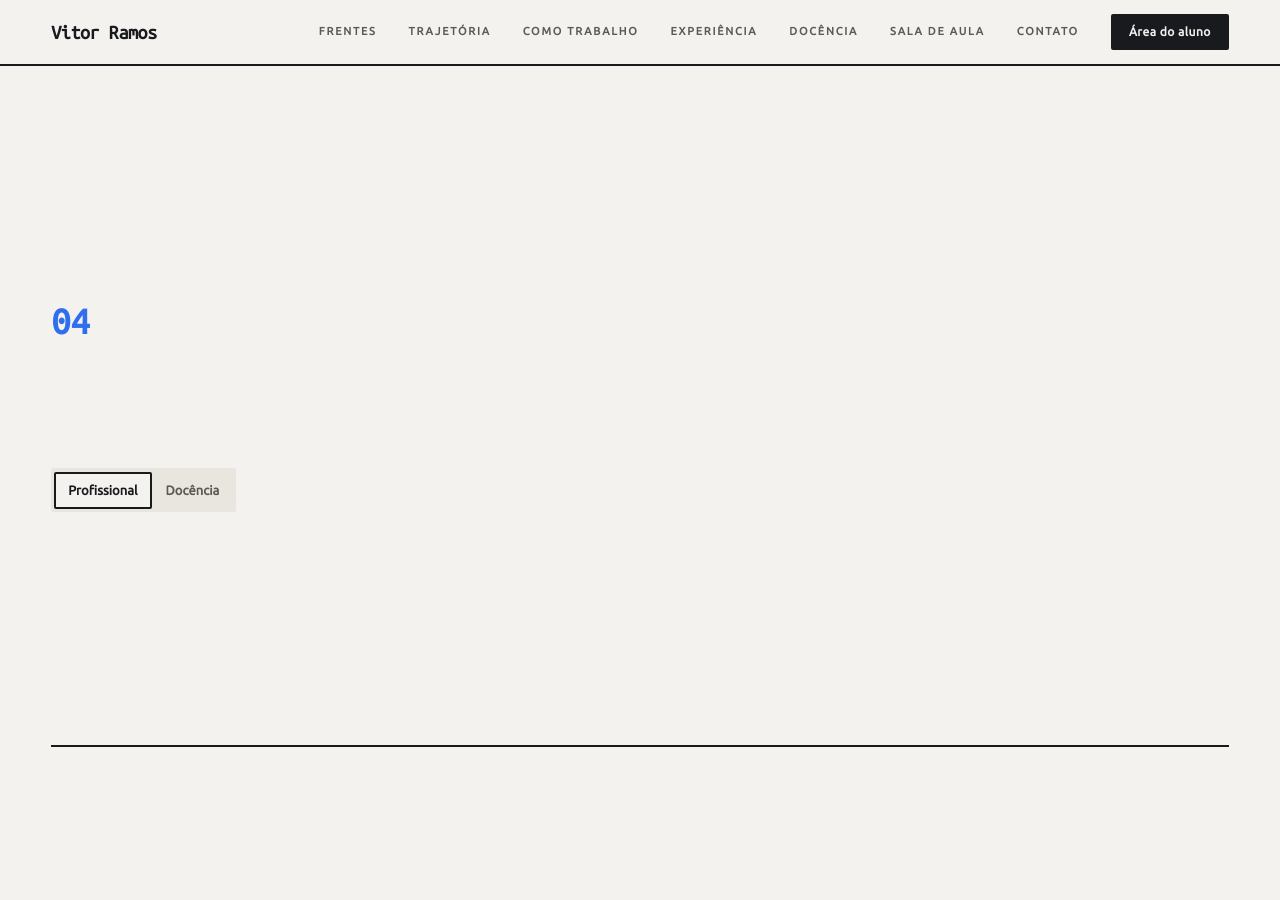
Test: Landing › troca entre as abas Profissional e Docência
(page scrolled)
Click the tab "Docência": click(192, 490) x1=152 y1=472 x2=233 y2=509
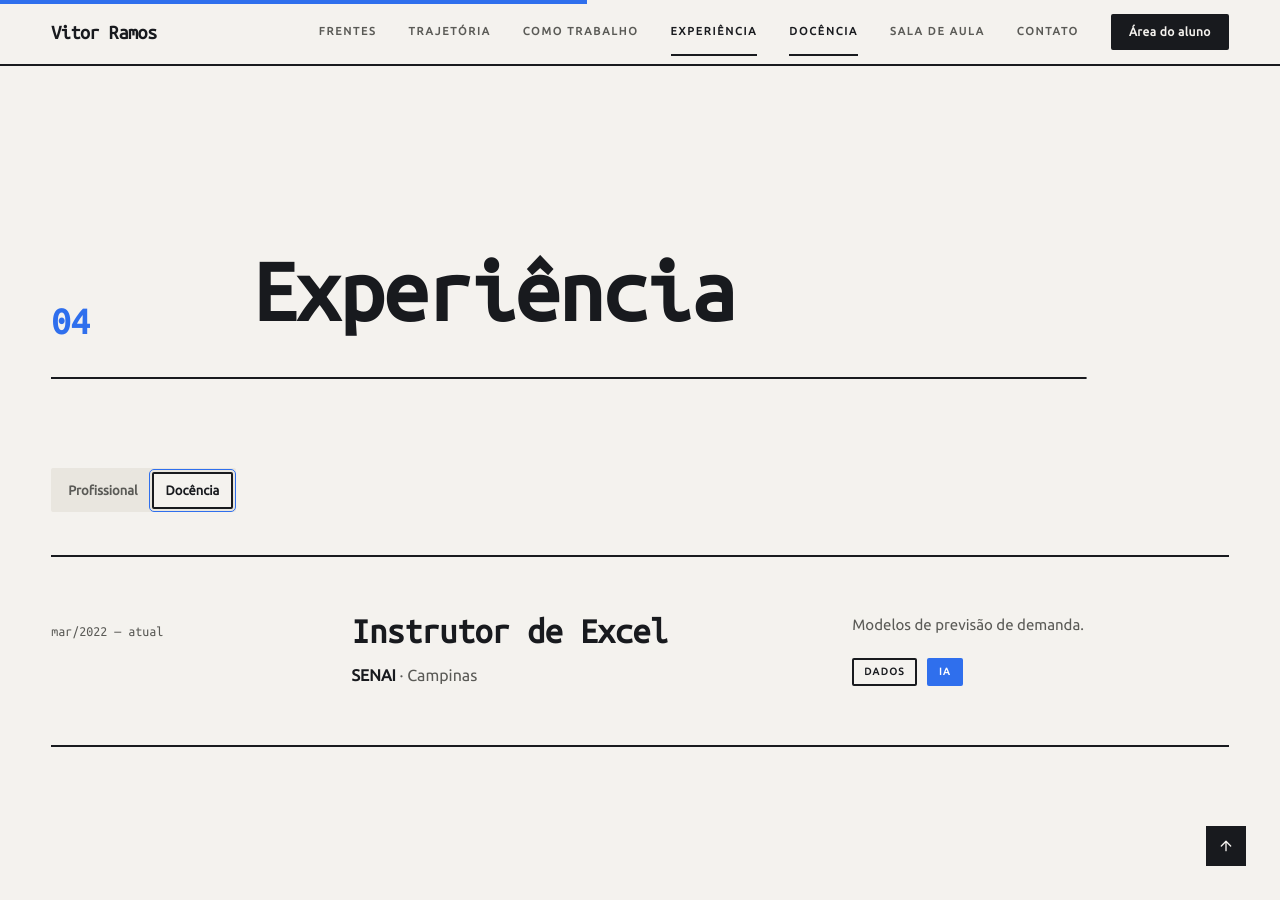
Now the heading "Instrutor de Excel" is shown, box x1=352 y1=613 x2=668 y2=649
